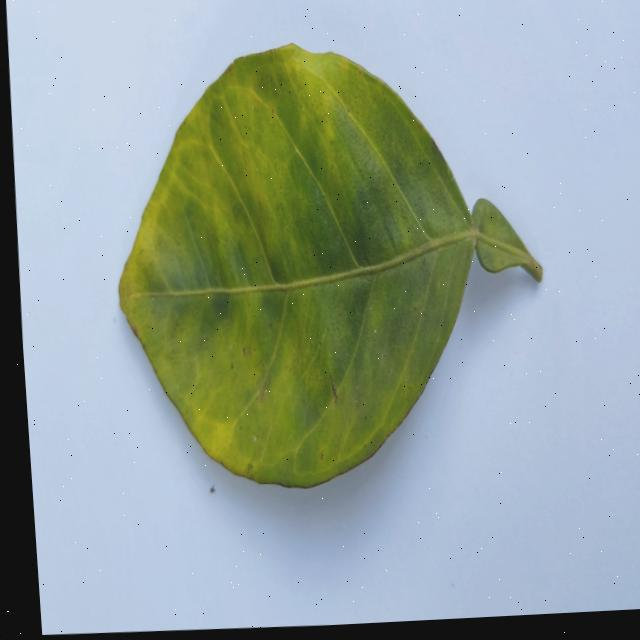greening: (118, 45, 541, 486)
